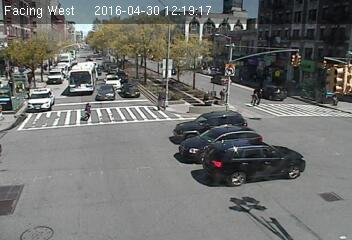neg: (237, 192, 259, 221), (200, 28, 219, 53), (326, 85, 344, 109), (140, 30, 157, 54), (7, 101, 24, 124), (196, 87, 213, 109), (289, 48, 303, 66), (317, 14, 330, 32), (27, 72, 38, 87), (117, 74, 128, 88)
pos: (151, 91, 167, 112), (80, 102, 95, 122), (247, 88, 260, 105), (256, 88, 268, 105), (218, 86, 230, 102)
